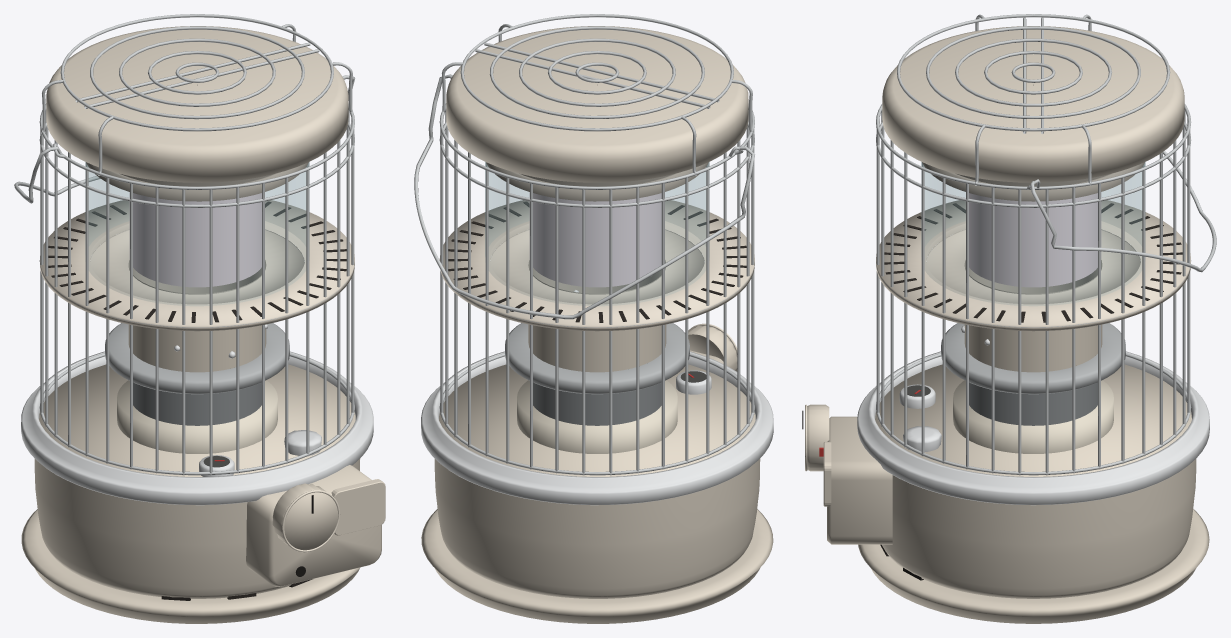
Rendered from paseco-camp-10-sunset.glb.
3 views of the same model, side by side, from view 1: azimuth 30°, elevation 25°; view 2: azimuth 150°, elevation 25°; view 3: azimuth 270°, elevation 25° (orthographic).
Bounding box in the file's own units: 0.3274 × 0.48 × 0.3706.
